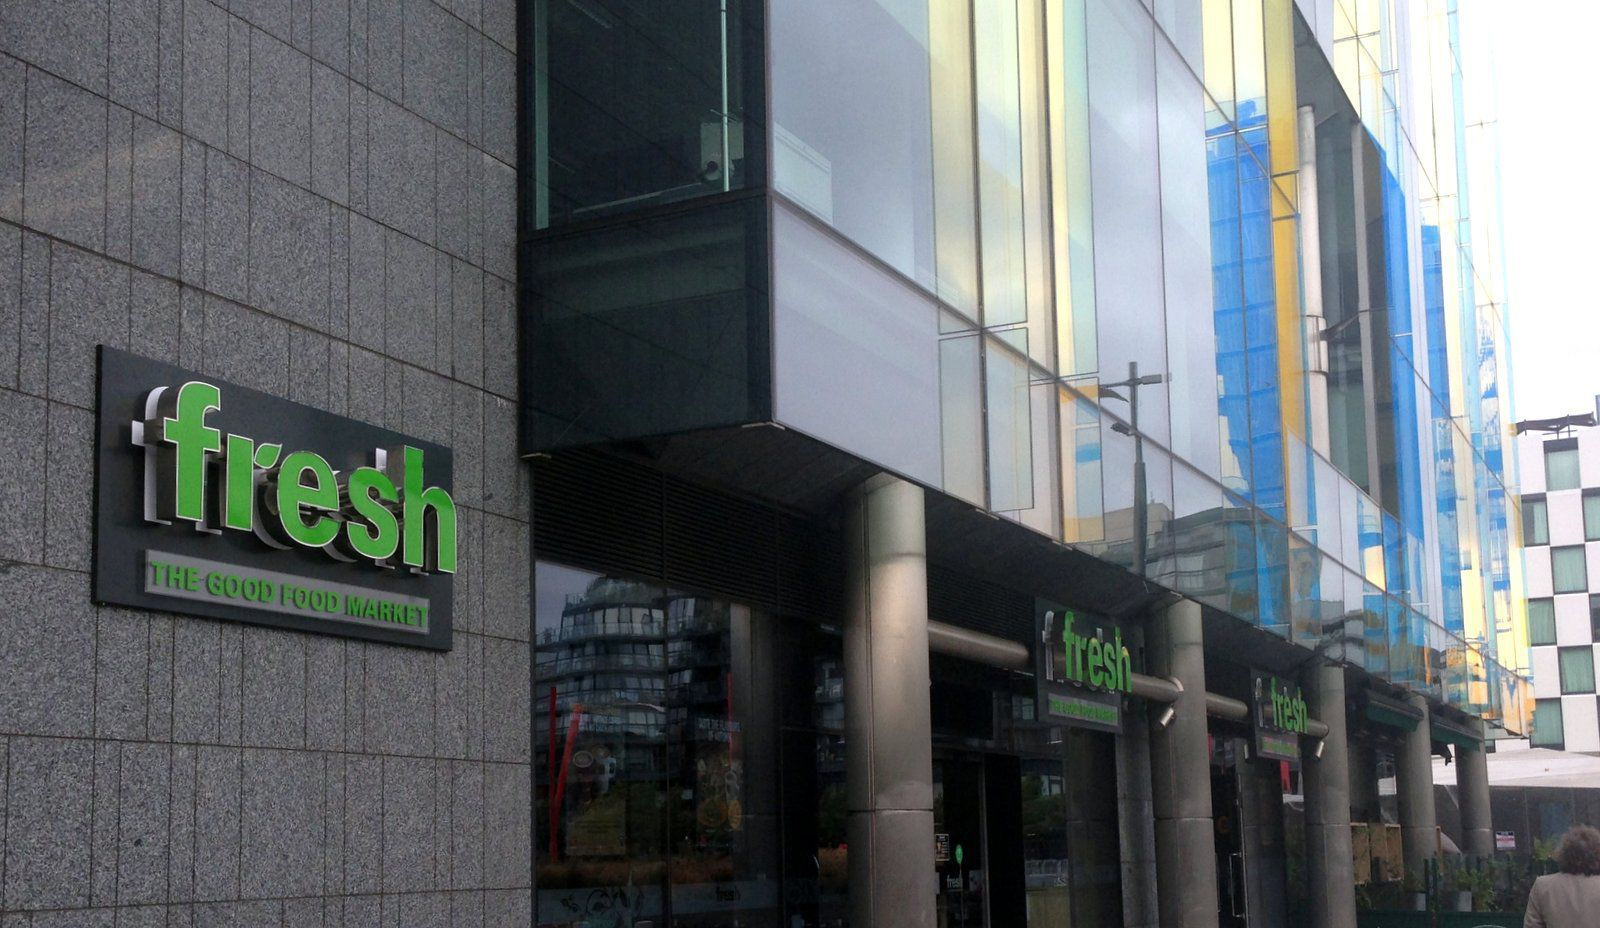signboard: (96, 321, 460, 661), (1028, 601, 1140, 741)
